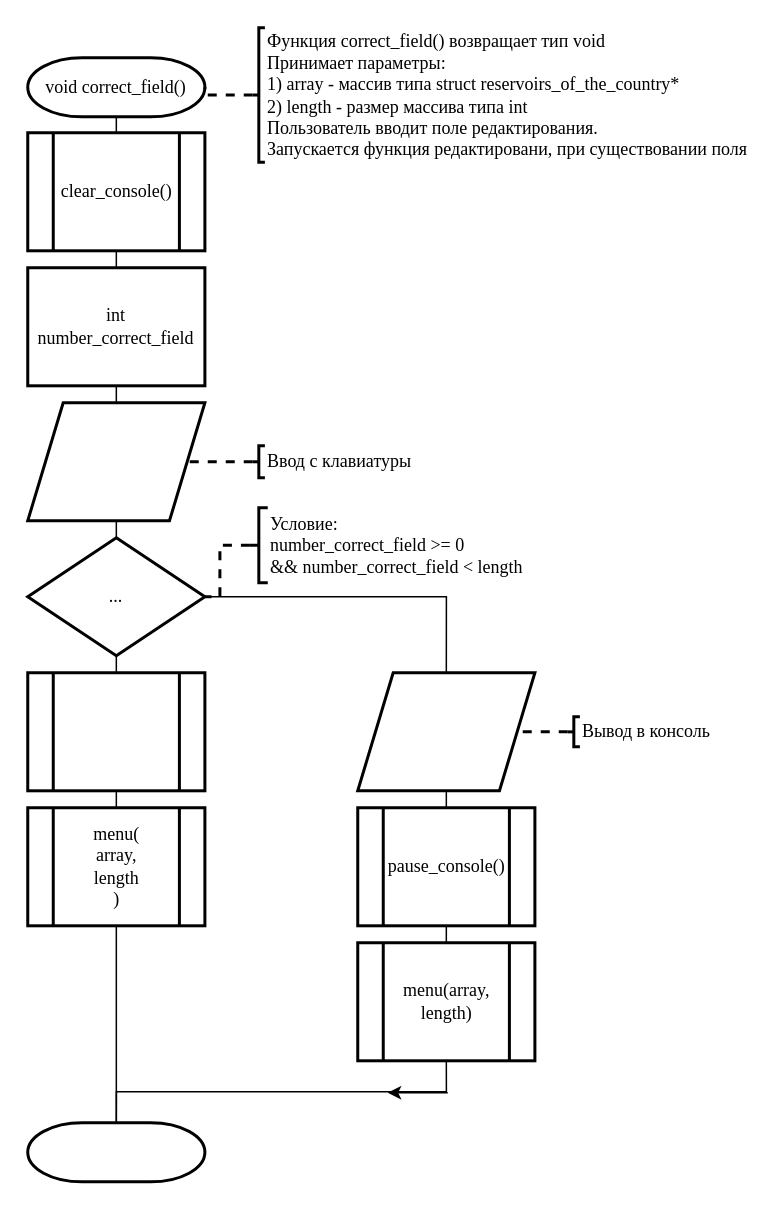
Image size: 774x1209. Some labels were removed from this diagram. The shapes that lost their labels are listed below. From the top down, each one's box as (x1, y1, x2, y2) in pixels, then its label:
(26, 400, 206, 522): number_correct _field
(26, 670, 206, 792): menu_correct _field( array, length, number_correct _field)
(356, 670, 536, 792): [!] Нет такого элемента!!!\n
(26, 1120, 206, 1183): Конец
